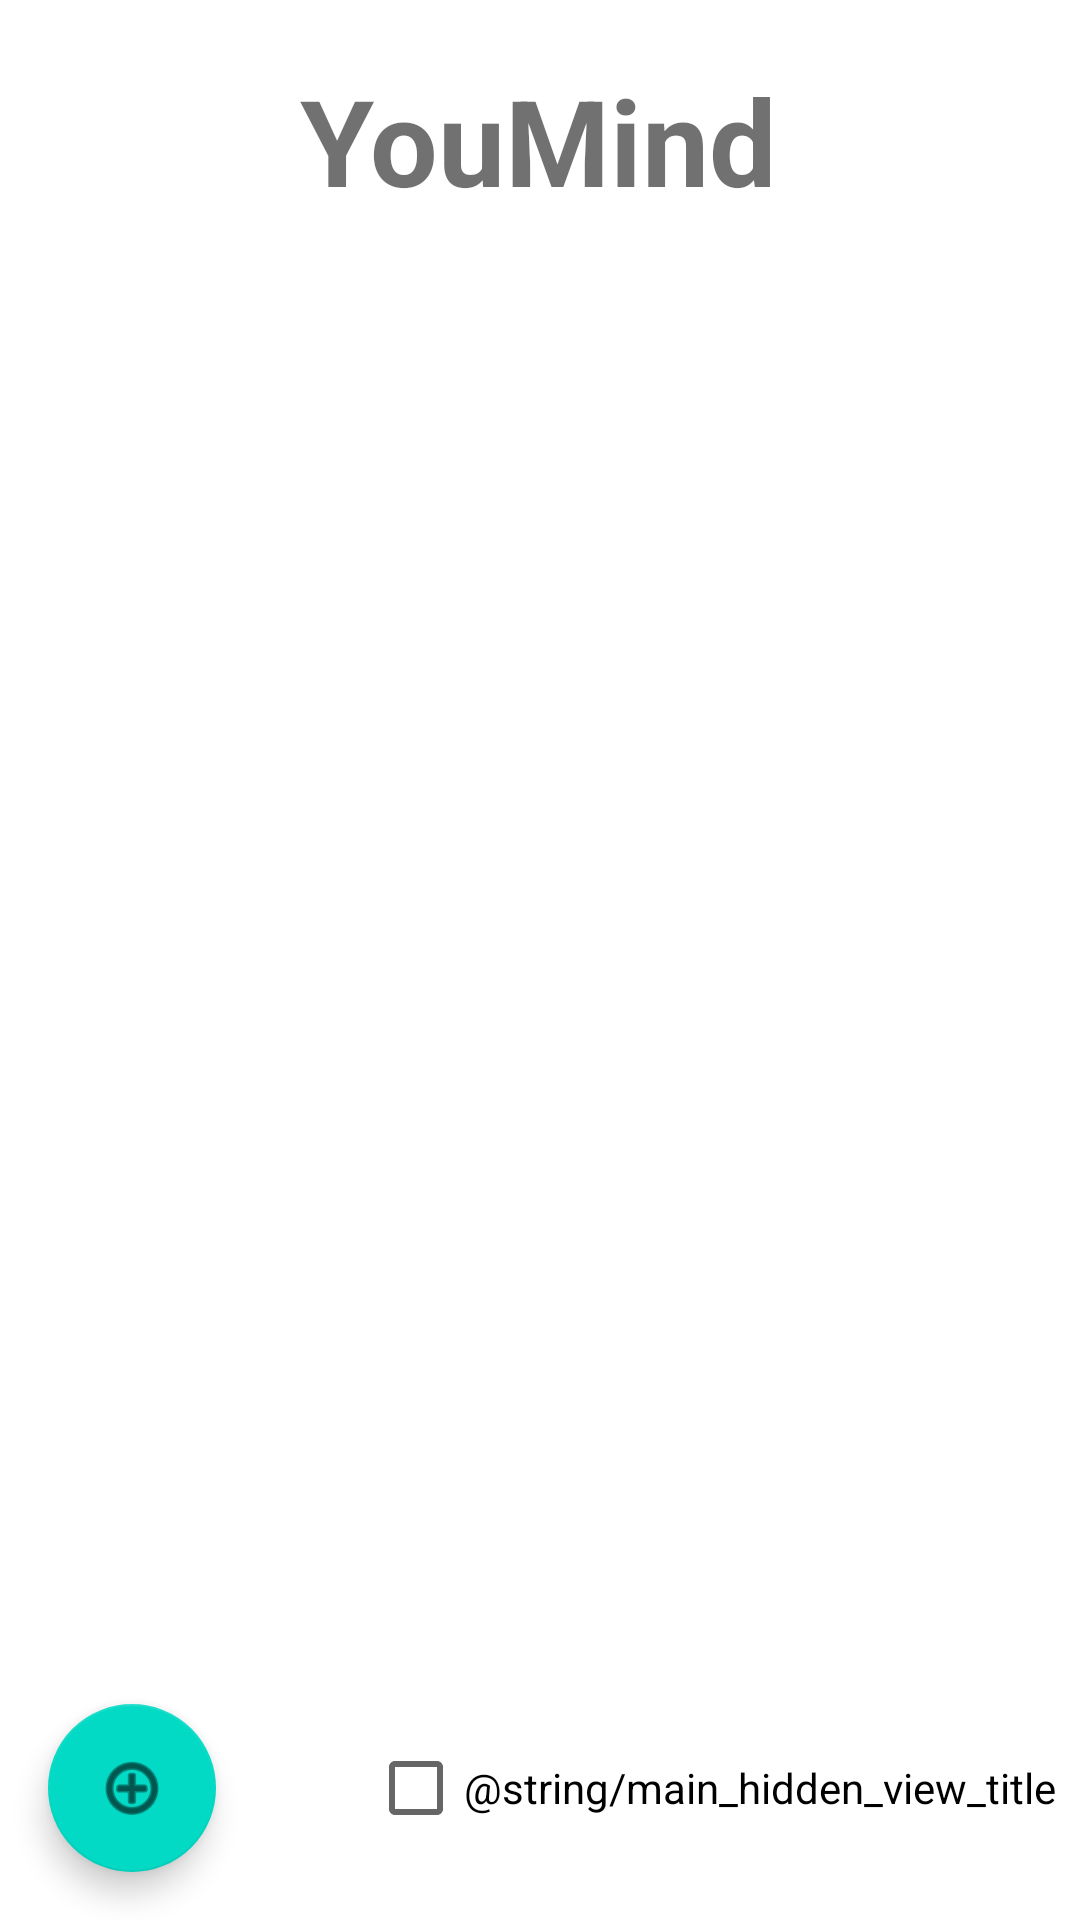

Screen size 1080*1920. Icon name, then its box in pixels as (x1, y1, x2, y2):
New Task: (48, 1704, 216, 1872)
